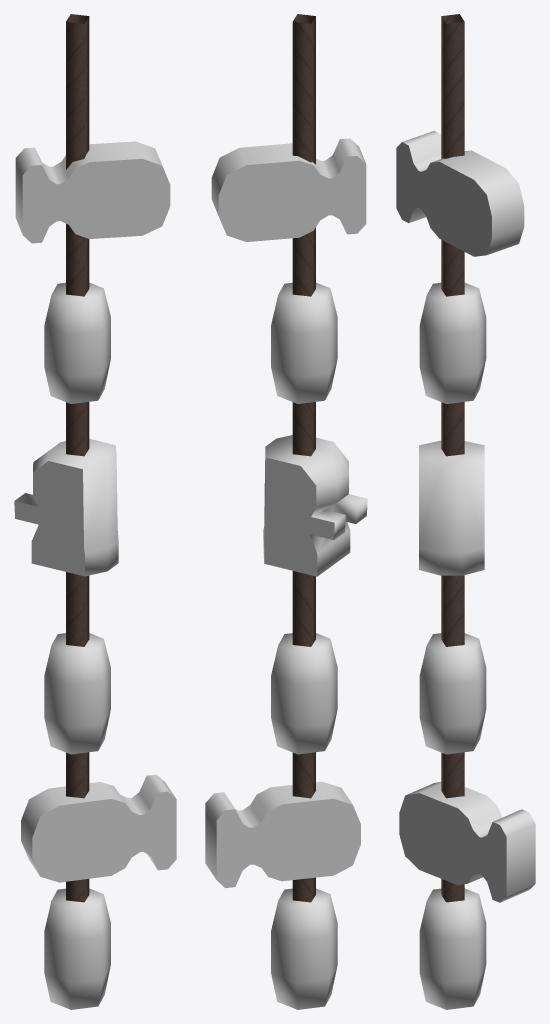
Rendered from Coast Charms 1.fbx.
3 renders of one model, left to right at view 1: azimuth 30°, elevation 25°; view 2: azimuth 210°, elevation 25°; view 3: azimuth 330°, elevation 25°, orthographic.
Parts seen in each view (by area): view 1: Charms 1; view 2: Charms 1; view 3: Charms 1.
Boxes of the visible parts, x1,y1,x2,y2 form: Charms 1: (14,14,176,1009); Charms 1: (205,14,367,1009); Charms 1: (396,14,535,1009).
Size of the model in its own units: 208 by 1379 by 148.
